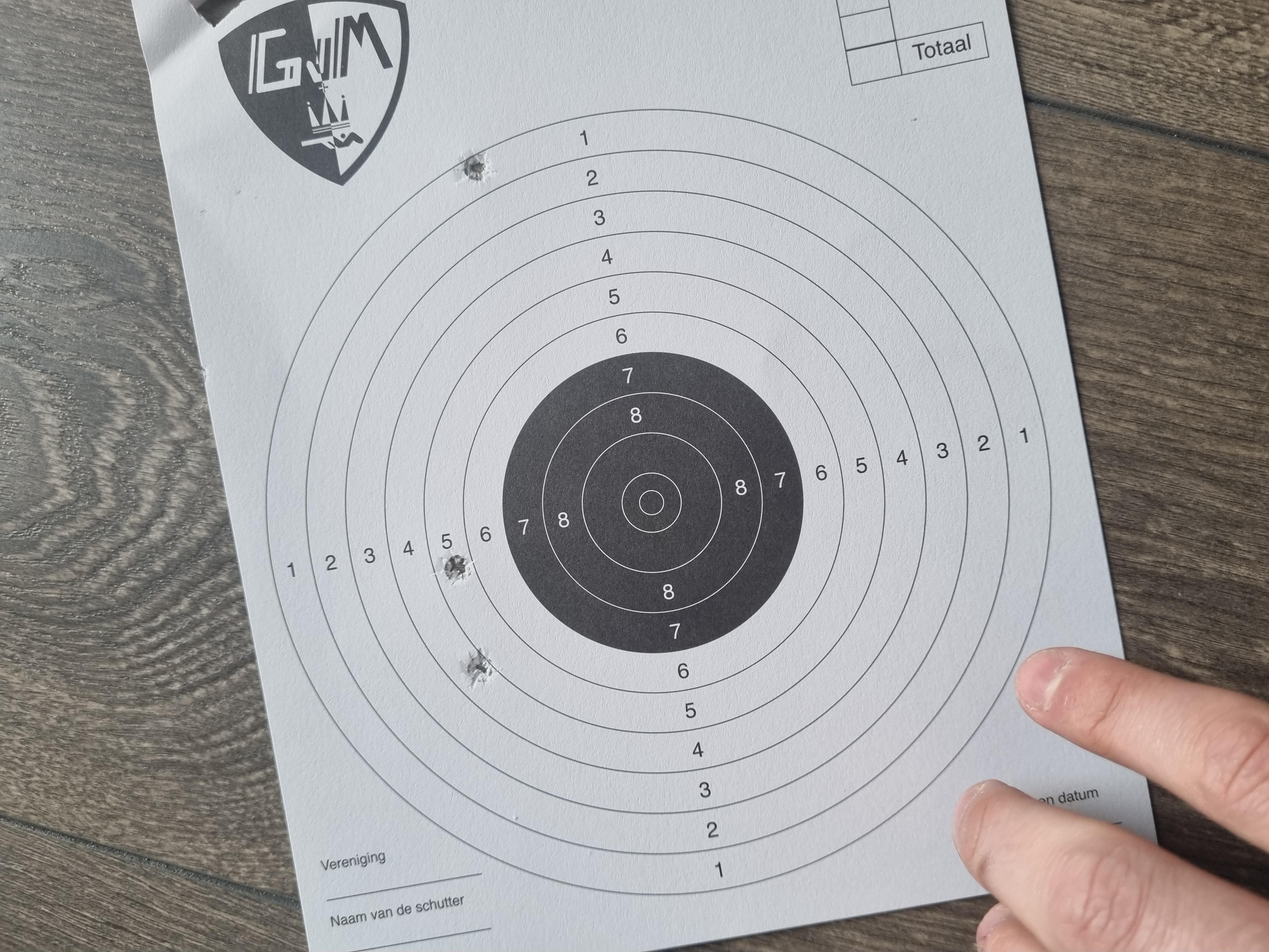hole: (1021, 343, 1073, 369), (354, 349, 403, 372), (491, 333, 530, 354)
